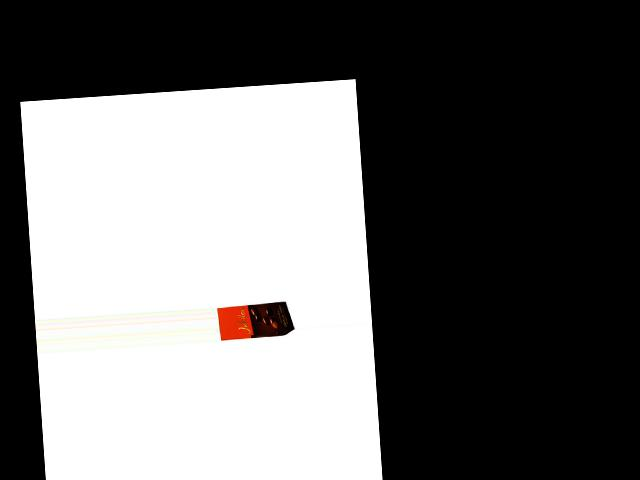chocolate: (217, 297, 294, 342)
